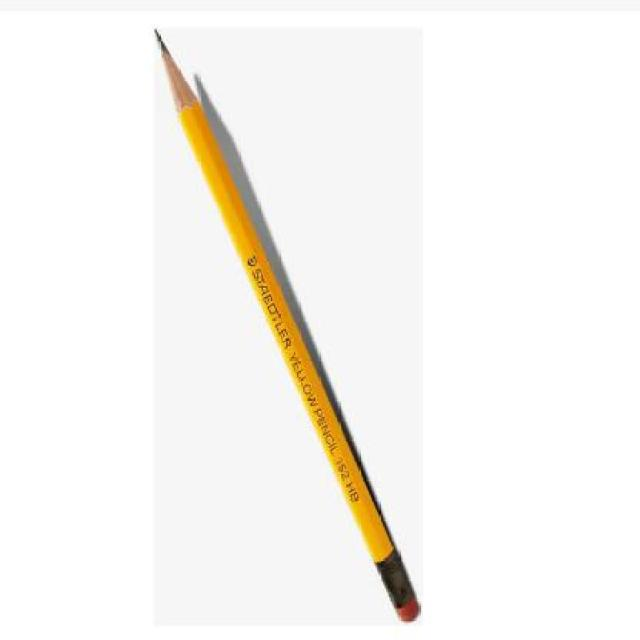pencil: (134, 12, 433, 636)
